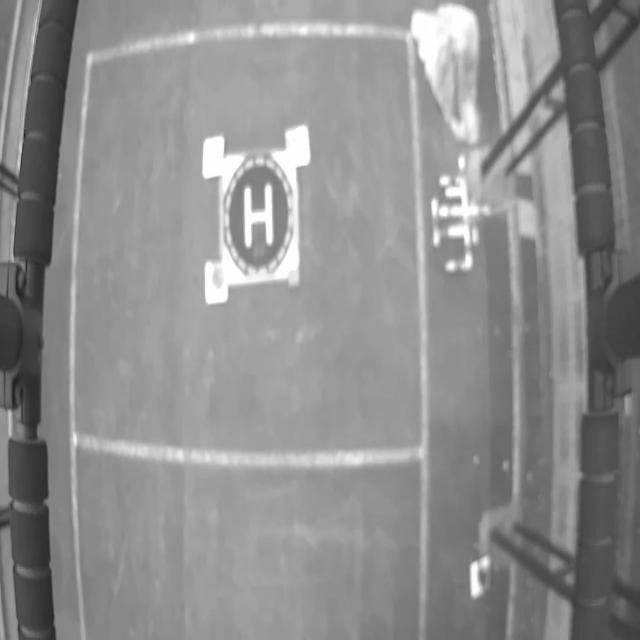Helipad: (243, 184, 273, 247)
